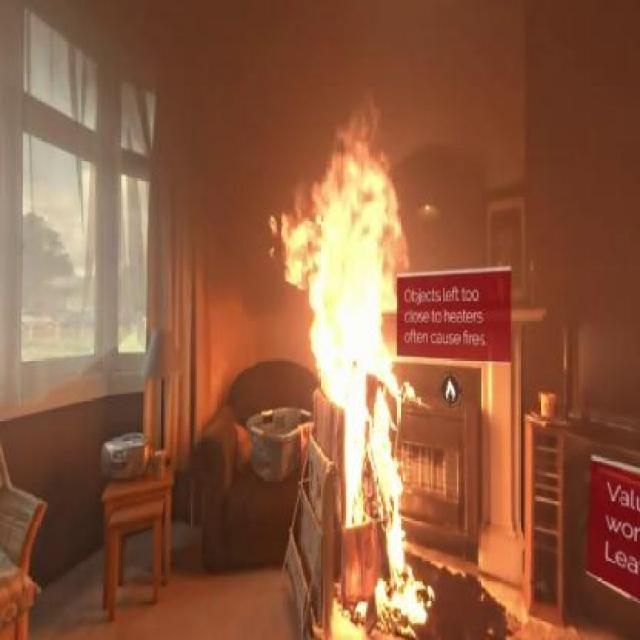smoke: (117, 20, 580, 612)
